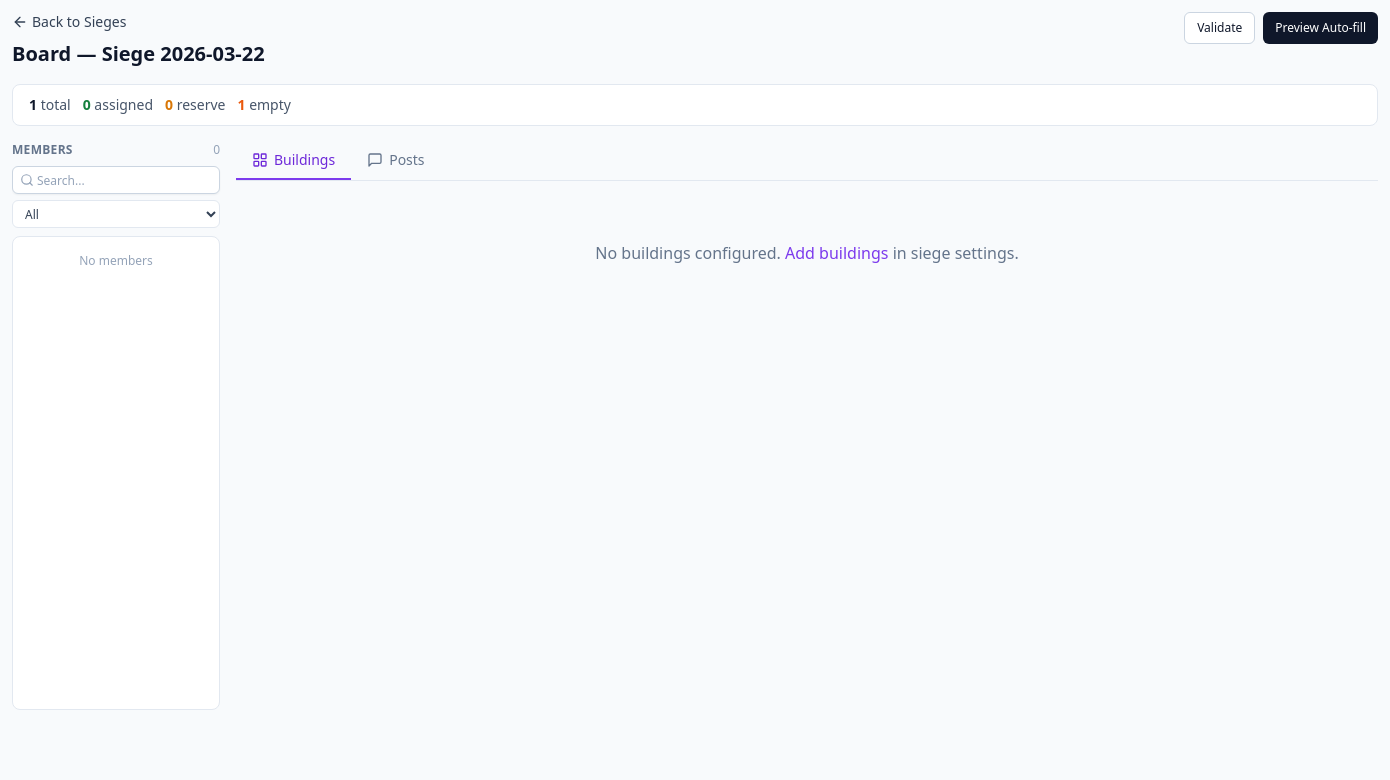
Test: PostsTab — optimal-status chip (#364) › chip renders Optimal when every actionable assignment matches_current
The width and height of the screenshot is (1390, 780).
Click the button "Posts" at (396, 161), box [351, 142, 441, 180]
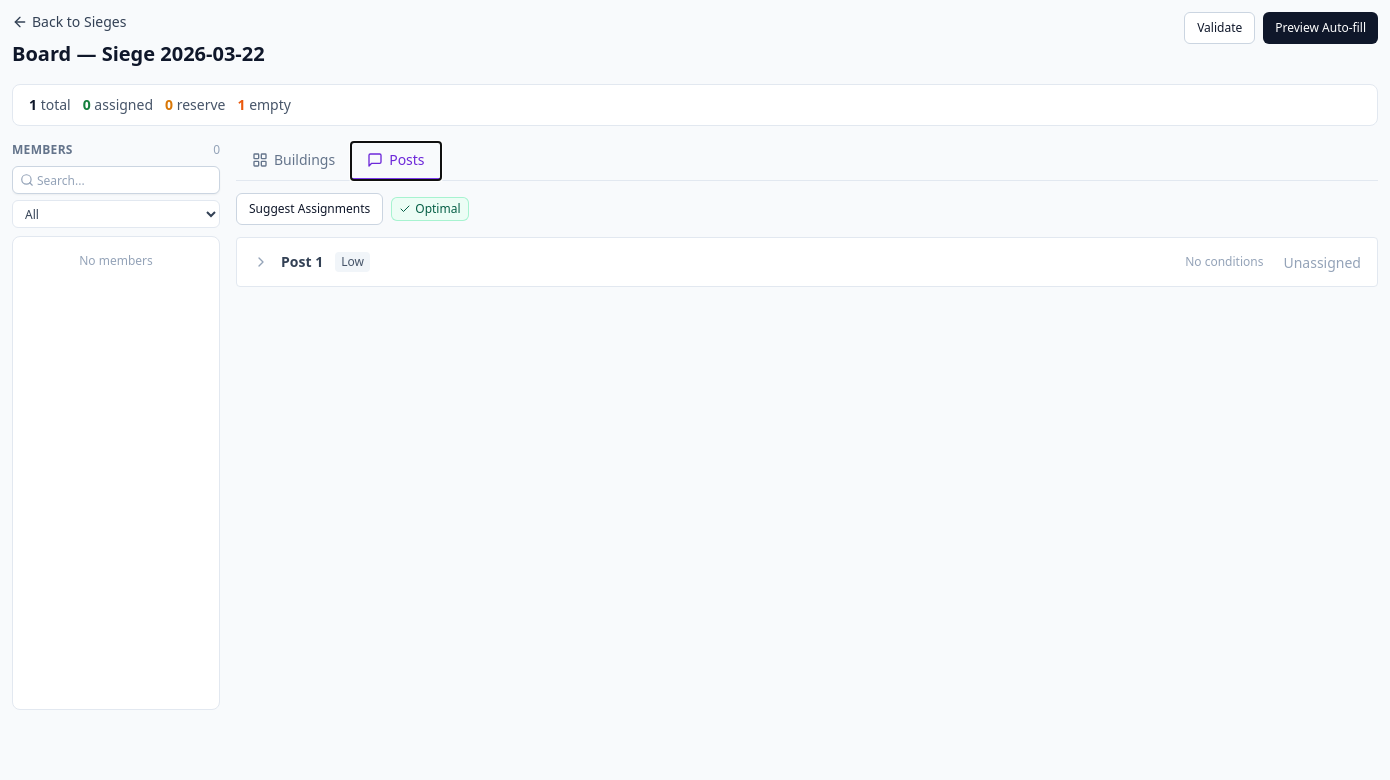
Expected: the text "Optimal" is shown, [391, 197, 468, 221]
